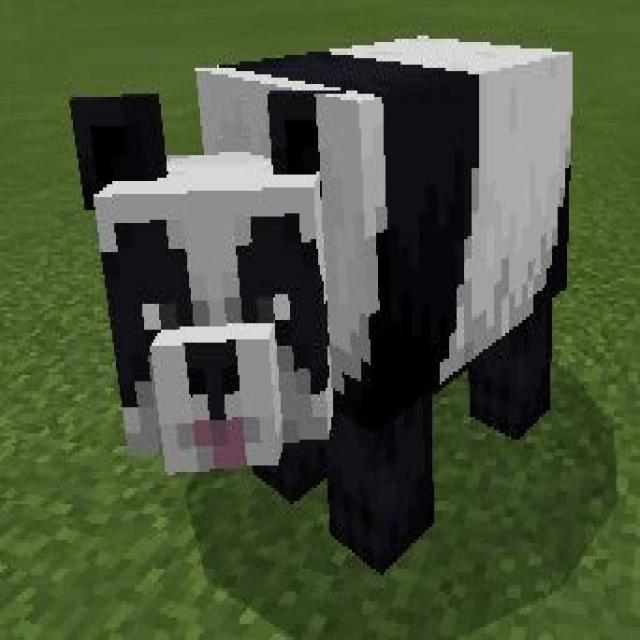Panda: (66, 31, 574, 577)
